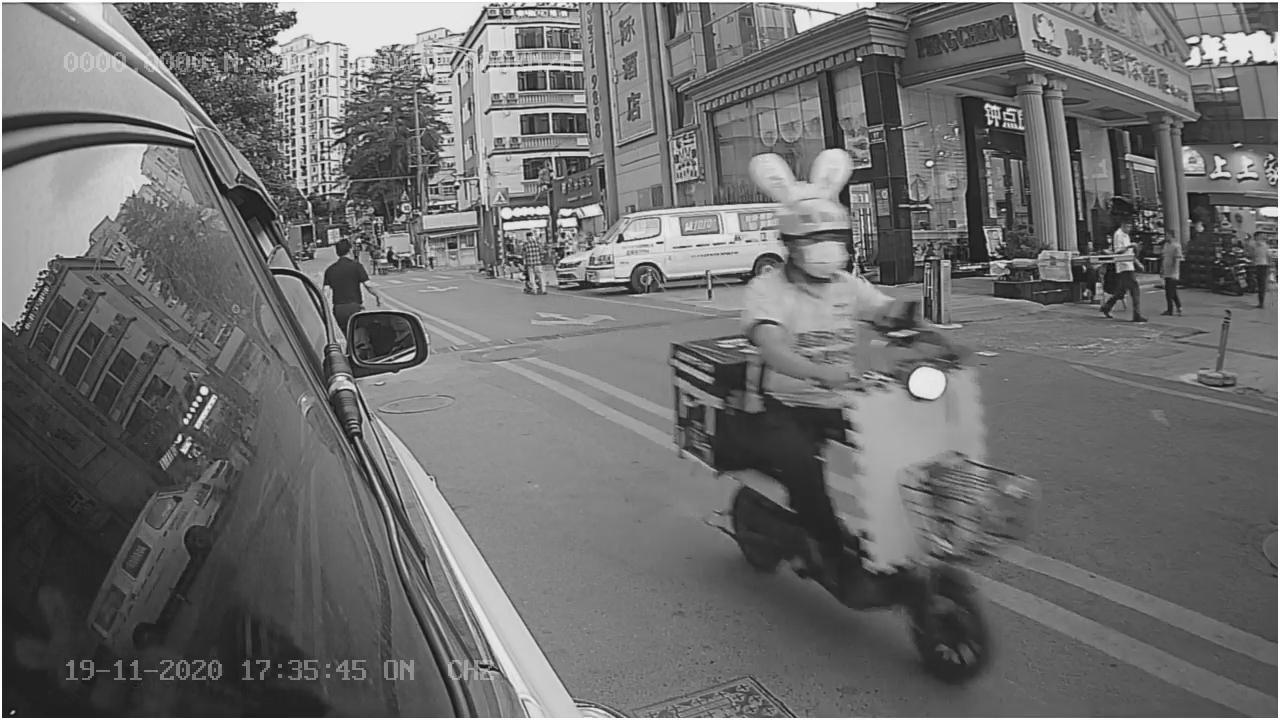person: (736, 204, 903, 354)
